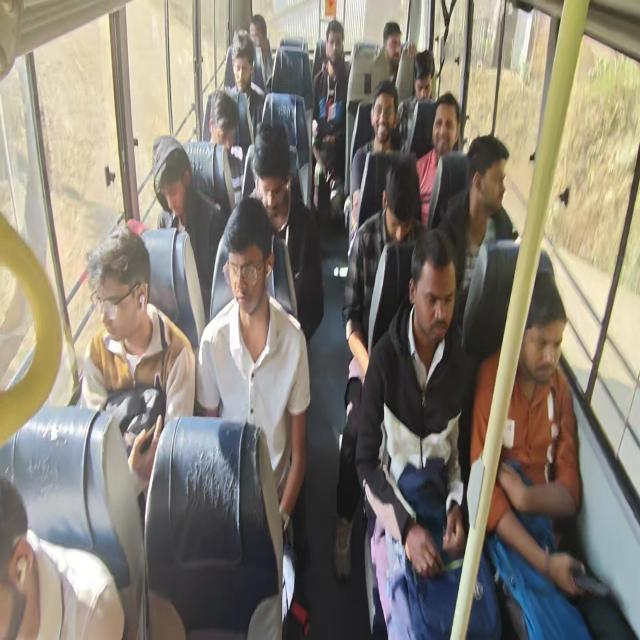person: (99, 240, 152, 328), (517, 286, 561, 384), (252, 121, 291, 220), (469, 140, 515, 221), (226, 225, 266, 306), (420, 268, 459, 351), (150, 142, 195, 202), (385, 163, 413, 234), (213, 93, 243, 157), (368, 88, 392, 148), (231, 31, 253, 95), (429, 101, 456, 150), (322, 23, 347, 70), (381, 22, 408, 64), (247, 3, 268, 43), (413, 59, 432, 99)
